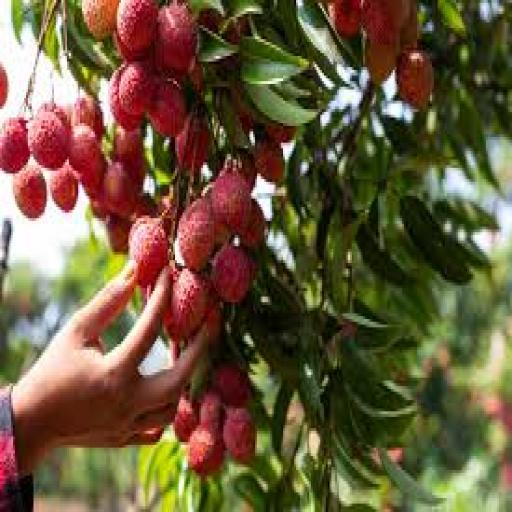lychee: (166, 269, 210, 341), (129, 219, 169, 288), (157, 3, 197, 72), (177, 199, 215, 271), (211, 244, 255, 304), (211, 171, 251, 235), (28, 110, 70, 170), (69, 124, 104, 187), (149, 79, 186, 137), (118, 0, 158, 53), (397, 51, 433, 109), (108, 68, 141, 131), (176, 112, 210, 173), (103, 163, 137, 218), (120, 62, 154, 117), (362, 0, 400, 47), (189, 426, 223, 478), (14, 163, 46, 218), (224, 409, 256, 464), (213, 364, 251, 408), (0, 118, 29, 173), (82, 0, 119, 39), (49, 163, 78, 212), (71, 96, 104, 139), (239, 199, 266, 249), (365, 42, 396, 83), (256, 140, 284, 184), (174, 395, 199, 442), (114, 126, 143, 165), (330, 0, 361, 36), (105, 216, 132, 254), (203, 297, 223, 344), (200, 392, 223, 430), (267, 124, 296, 142), (0, 65, 9, 109)
